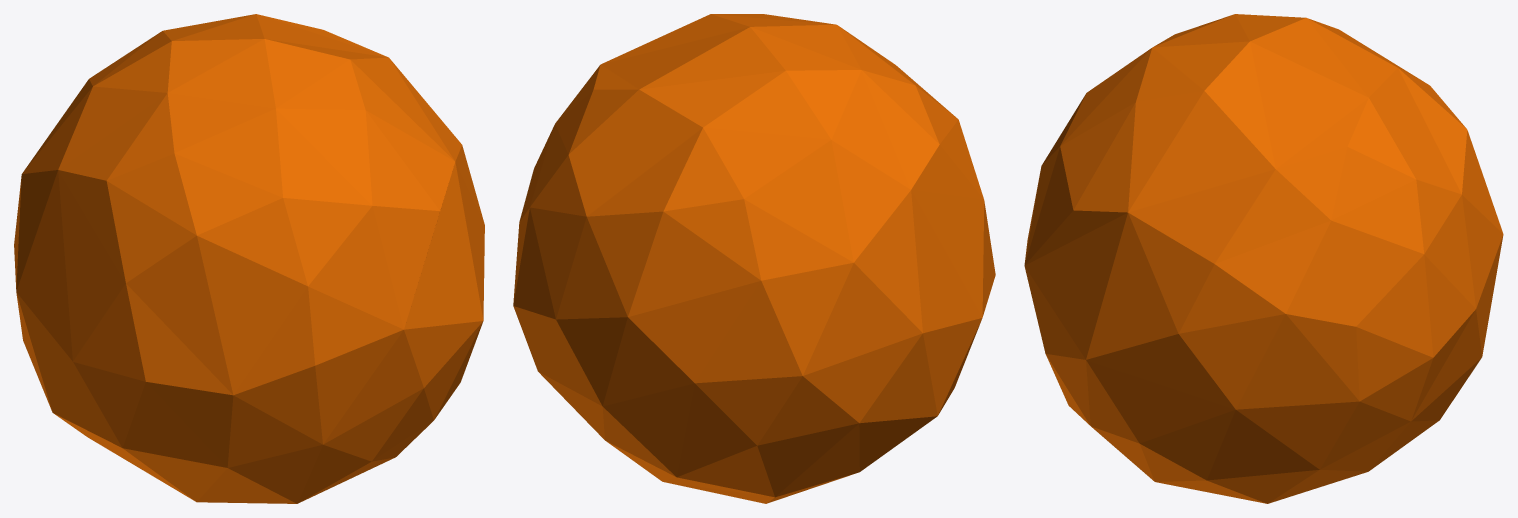
The model's file is item_orange.fbx.
3 views of the same model, side by side, from view 1: azimuth 30°, elevation 25°; view 2: azimuth 150°, elevation 25°; view 3: azimuth 270°, elevation 25° (orthographic).
Visible parts, largest first — view 1: item_orange; view 2: item_orange; view 3: item_orange.
Part boxes in pixels (x1,y1,x2,y2): item_orange: (14,14,484,503); item_orange: (513,14,995,503); item_orange: (1024,14,1503,503).
Bounding box in the file's own units: 15.69 × 16.32 × 15.95.
